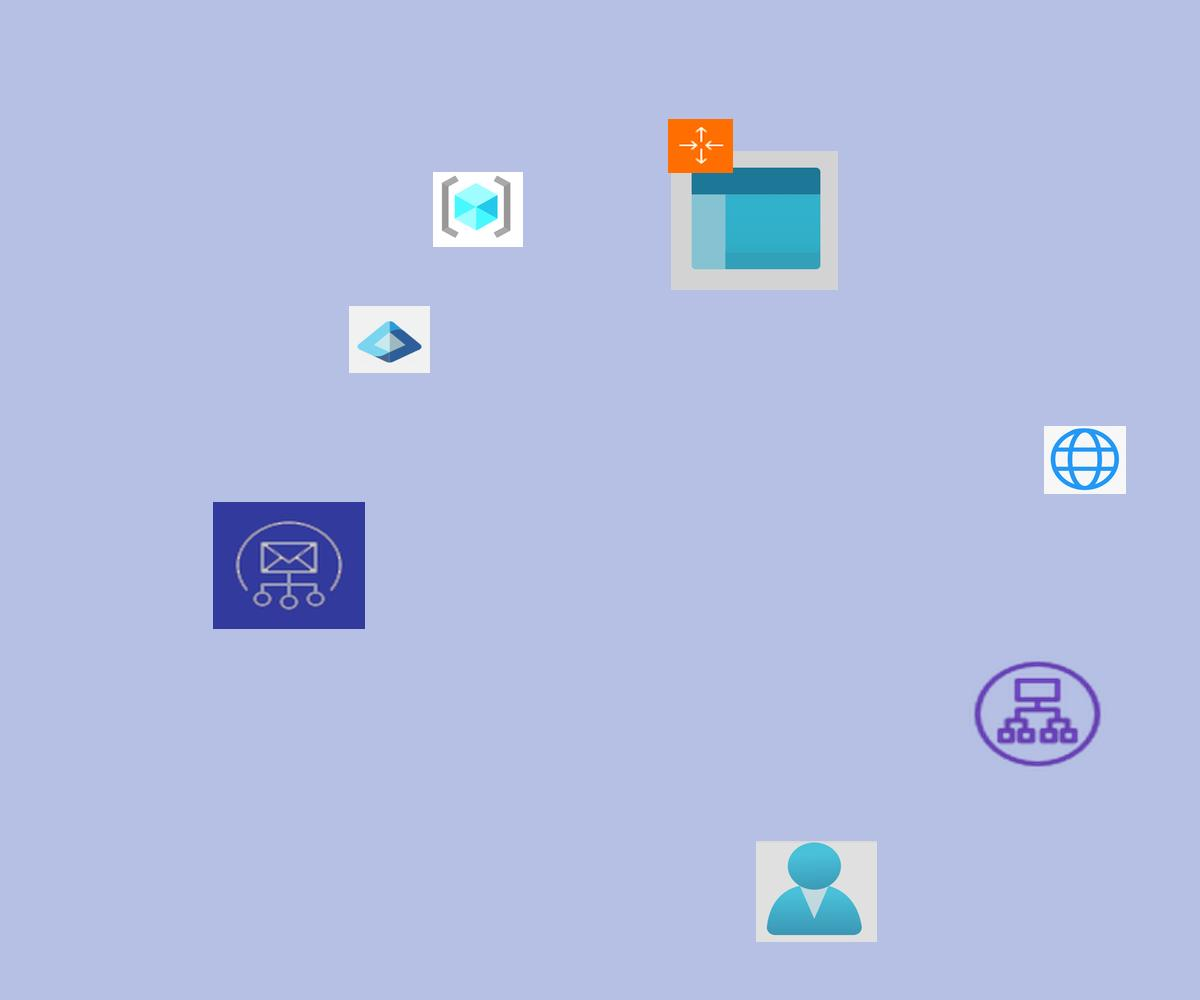AWS-Res_Elastic-Load-Balancing_Application-Load-Balancer: (969, 657, 1106, 771)
AWS-Scaling-group: (668, 119, 733, 173)
AWS-Simple-Email-Service: (213, 502, 365, 629)
Azure_http: (1044, 426, 1126, 494)
Azure_management-portal: (671, 151, 838, 290)
Azure_microsoft_entra: (349, 306, 430, 373)
Azure_resource_group: (433, 172, 523, 247)
Azure_users: (756, 841, 877, 942)
